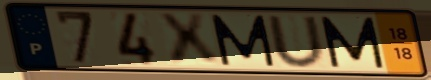4: (113, 10, 159, 67)
7: (52, 9, 97, 67)
M: (317, 15, 389, 70), (208, 13, 279, 68)
U: (264, 14, 330, 70)
X: (154, 11, 224, 67)
